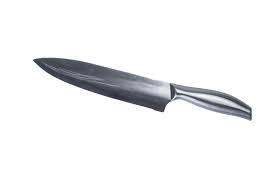Knife: (32, 56, 252, 121)
